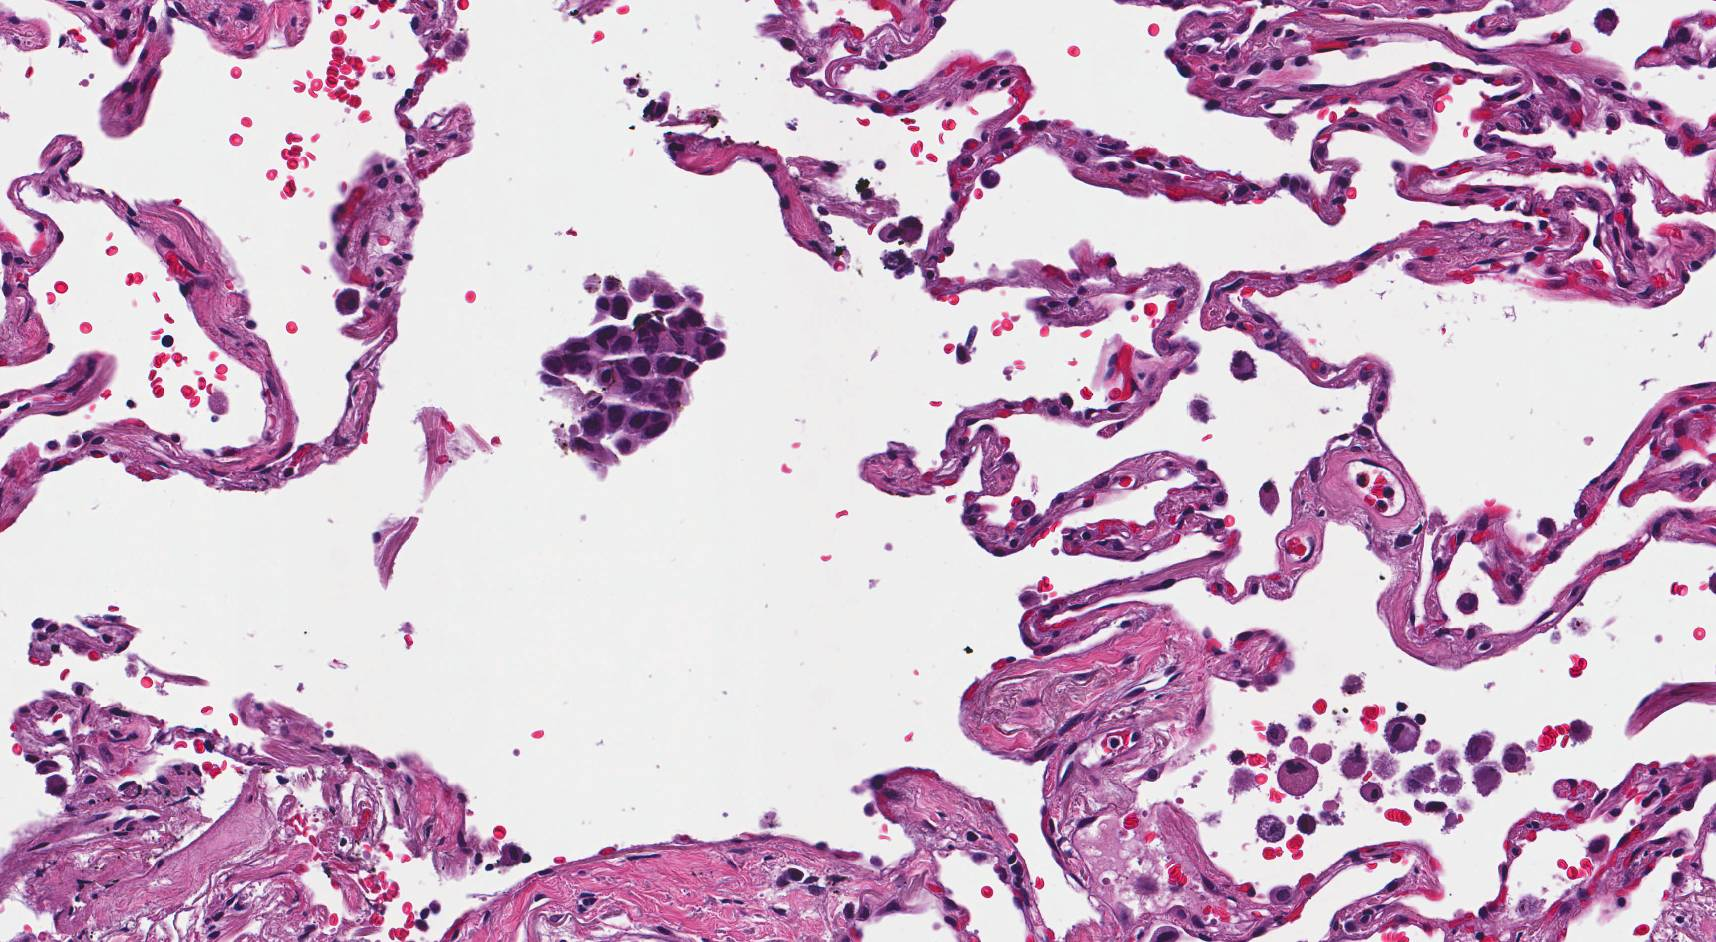stas: (535, 266, 731, 477)
